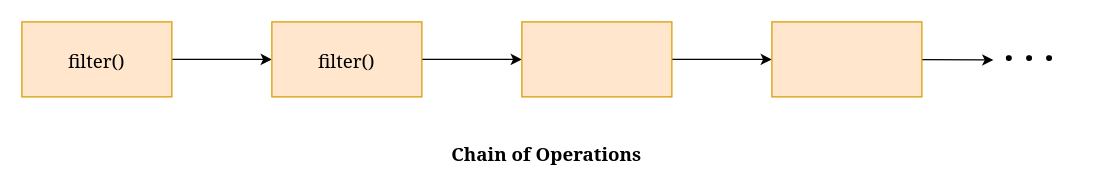
Image size: 1094x194. Some labels were removed from this diagram. Each missing label, with the centre of its shape:
map(): the point at 596,59
sorted(): the point at 846,59
